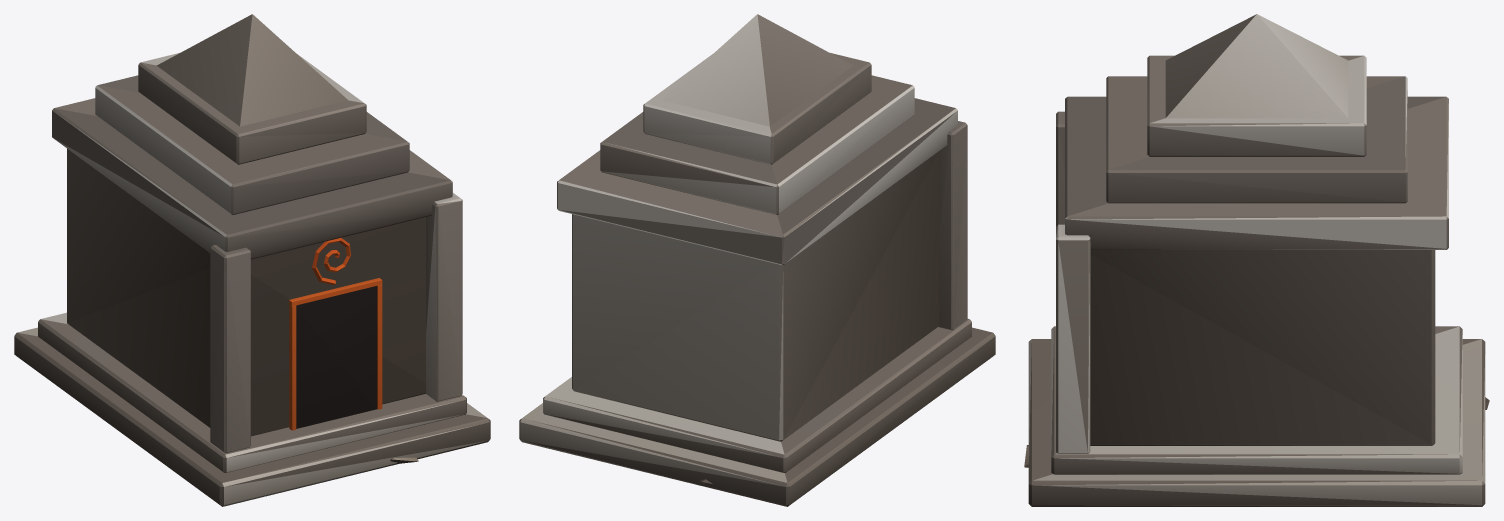
File: abyss_crypt.glb
3 views of the same model, side by side, from view 1: azimuth 30°, elevation 25°; view 2: azimuth 150°, elevation 25°; view 3: azimuth 270°, elevation 25° (orthographic). The views are drawn at different scales.
Visible parts, largest first — view 1: ca_abyss_crypt; view 2: ca_abyss_crypt; view 3: ca_abyss_crypt.
Part boxes in pixels (box(x1,y1,x2,y2)): ca_abyss_crypt: box(14, 14, 490, 506); ca_abyss_crypt: box(519, 14, 995, 506); ca_abyss_crypt: box(1024, 14, 1489, 506).
Size of the model in its own units: 5.89 by 8 by 8.
1 material, 1 textured.
